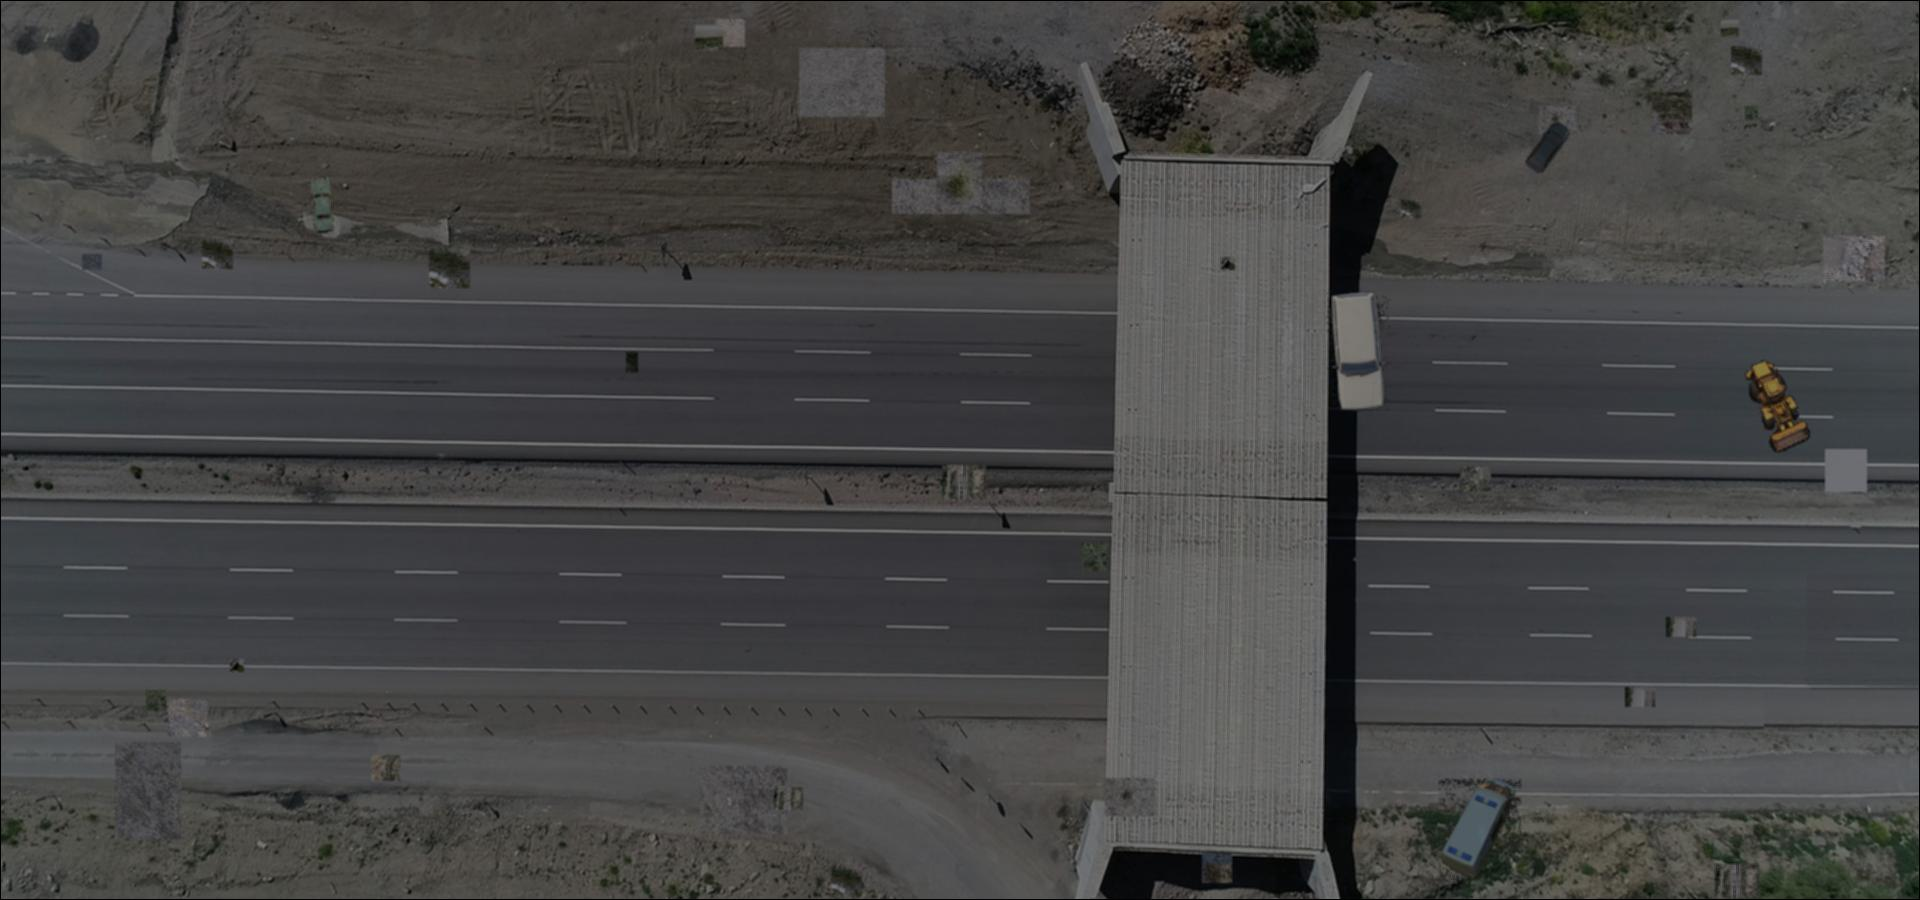arac: (1439, 779, 1521, 880), (1327, 291, 1390, 411), (1738, 360, 1816, 453), (1521, 121, 1571, 174), (310, 175, 337, 235)
